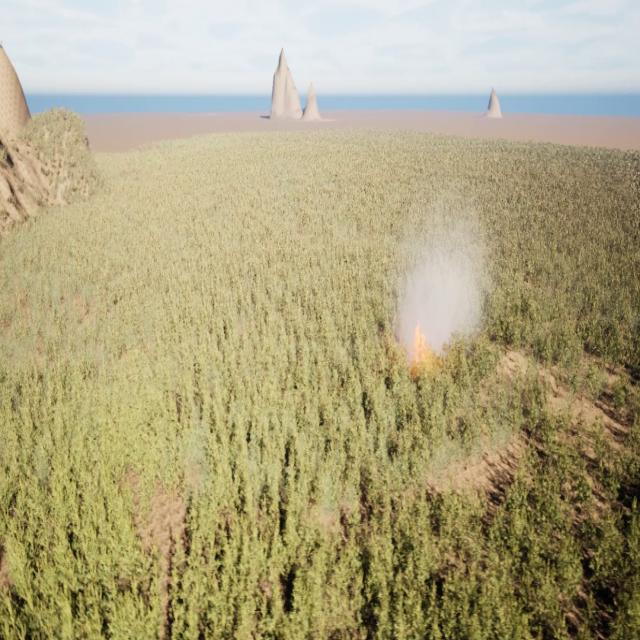fire: (412, 322, 431, 365)
smoke: (397, 206, 487, 363)
